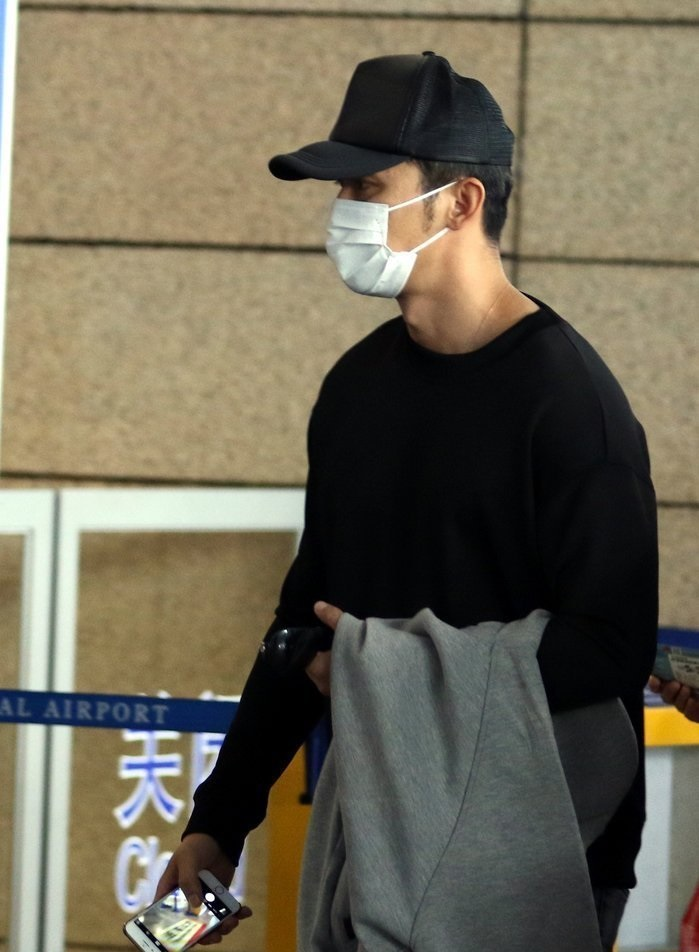face_mask: (329, 130, 425, 301)
